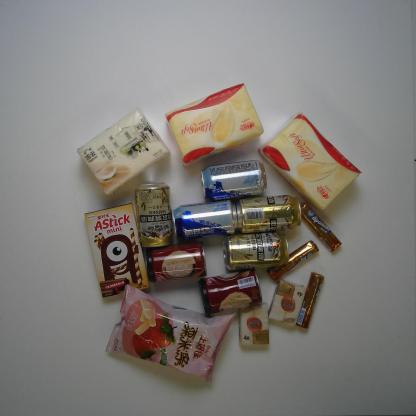Alcohol: (169, 195, 242, 244), (196, 159, 270, 207), (131, 177, 177, 252), (234, 191, 302, 236), (221, 229, 290, 271)
Candy: (266, 238, 321, 284), (296, 201, 344, 253), (293, 270, 326, 331)
Canned Food: (198, 267, 264, 317), (145, 238, 210, 282)
Dessert: (83, 203, 154, 302)
Puffed Food: (104, 283, 242, 388)
Tissue: (254, 108, 364, 216), (164, 81, 264, 171), (74, 110, 174, 198), (264, 278, 313, 326), (236, 299, 271, 348)
